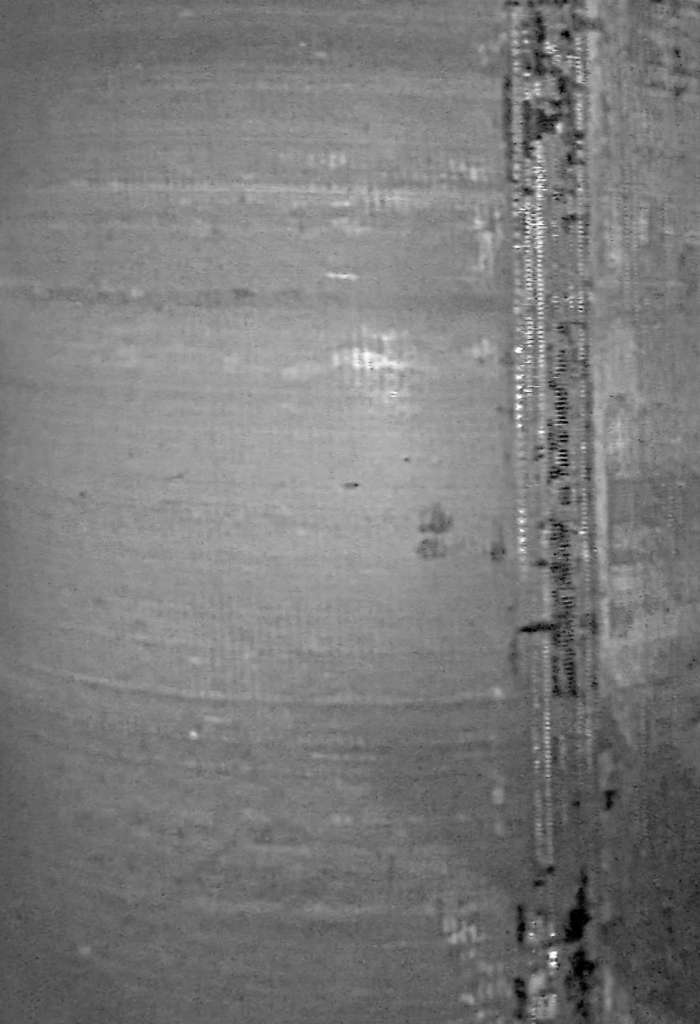splice: (491, 5, 625, 1024)
